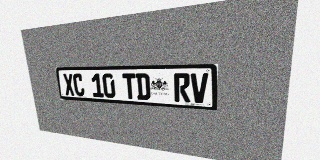0: (102, 73, 116, 98)
1: (90, 73, 104, 97)
C: (72, 73, 85, 96)
D: (136, 73, 151, 100)
R: (174, 73, 190, 102)
T: (122, 73, 137, 99)
V: (191, 73, 208, 103)
X: (63, 74, 75, 96)
